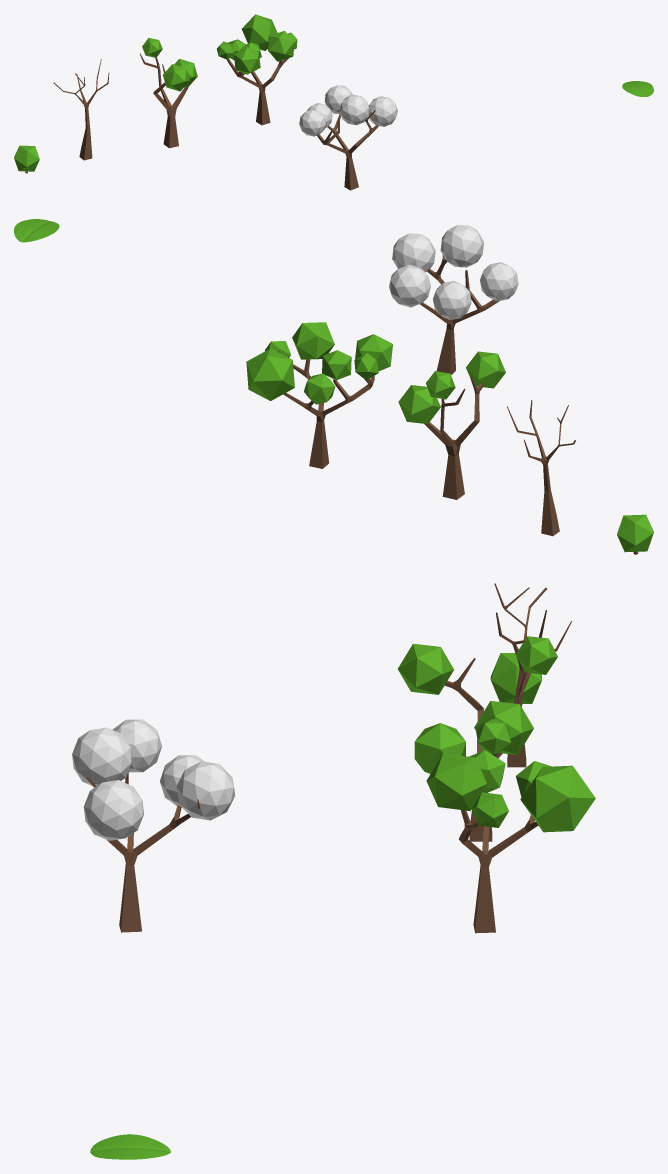
Rendered from bush.fbx.
3 renders of one model, top to bottom at view 1: azimuth 30°, elevation 25°; view 2: azimuth 150°, elevation 25°; view 3: azimuth 270°, elevation 25°, orthographic. The views are drawn at different scales.
Visible parts, largest first — view 1: tree.001, tree.002, tree, Icosphere.002, tree.003, Icosphere.003, Icosphere, bush, Icosphere.001, leaf; view 2: tree.001, tree.002, Icosphere.002, tree, Icosphere.001, tree.003, Icosphere.003, Icosphere, Icosphere.004, bush, leaf; view 3: tree.001, tree.002, Icosphere.003, Icosphere.002, Icosphere.001, tree, Icosphere, leaf, bush, tree.003, Icosphere.004.
Part boxes in pixels (box(x1,y1,x2,y2)): tree.001: box(217, 14, 297, 125); tree.002: box(140, 38, 197, 148); tree: box(317, 110, 378, 190); Icosphere.002: box(339, 94, 369, 125); tree.003: box(53, 59, 109, 160); Icosphere.003: box(368, 96, 397, 126); Icosphere: box(299, 109, 326, 136); bush: box(14, 145, 39, 173); Icosphere.001: box(324, 85, 352, 114); leaf: box(622, 81, 653, 96); tree.001: box(246, 322, 392, 468); tree.002: box(398, 351, 505, 499); Icosphere.002: box(440, 225, 483, 267); tree: box(420, 255, 499, 374); Icosphere.001: box(389, 264, 430, 307); tree.003: box(507, 400, 575, 536); Icosphere.003: box(392, 233, 435, 272); Icosphere: box(480, 262, 518, 301); Icosphere.004: box(433, 281, 471, 319); bush: box(617, 514, 653, 554); leaf: box(14, 219, 59, 242); tree.001: box(414, 719, 595, 933); tree.002: box(398, 636, 557, 841); Icosphere.003: box(83, 780, 143, 840); Icosphere.002: box(72, 727, 132, 785); Icosphere.001: box(176, 761, 235, 820); tree: box(86, 772, 200, 932); Icosphere: box(112, 719, 161, 772); leaf: box(90, 1134, 170, 1159); bush: box(490, 653, 541, 703); tree.003: box(494, 583, 571, 767); Icosphere.004: box(160, 755, 204, 806).
Size of the model in its own units: 1281 by 221 by 538.
